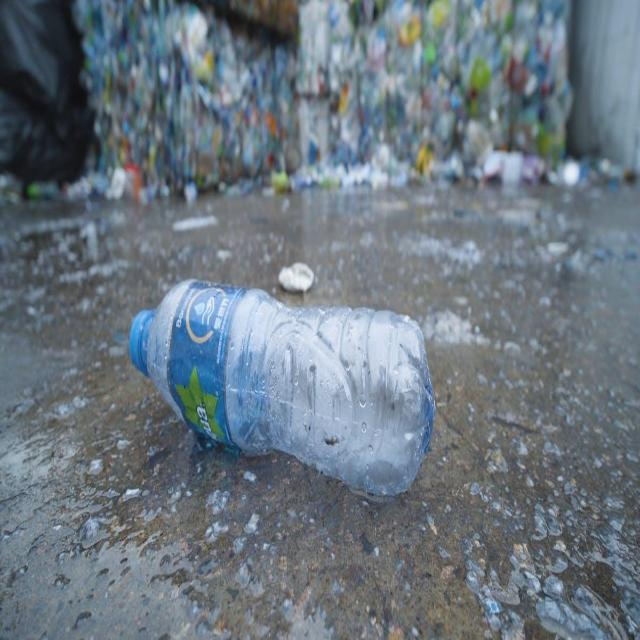plastic bottle: (148, 279, 434, 496)
plastic bottle cap: (129, 308, 155, 372)
